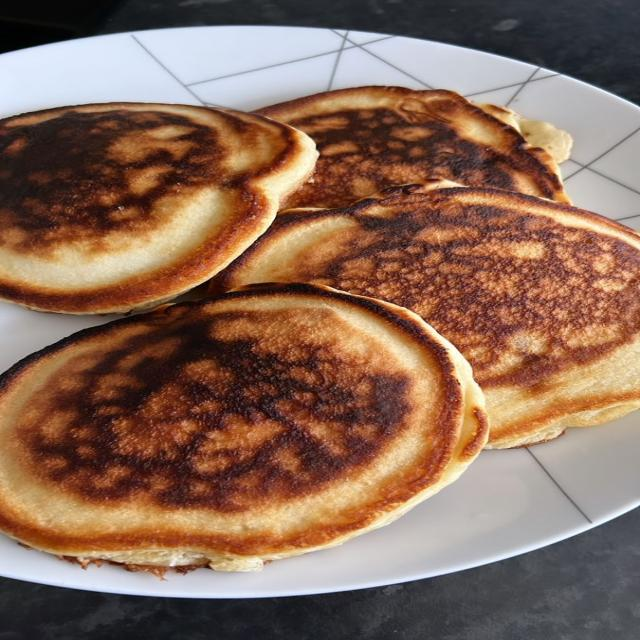pancake: (0, 285, 488, 570), (211, 180, 639, 447), (0, 103, 316, 313), (256, 86, 570, 207)
